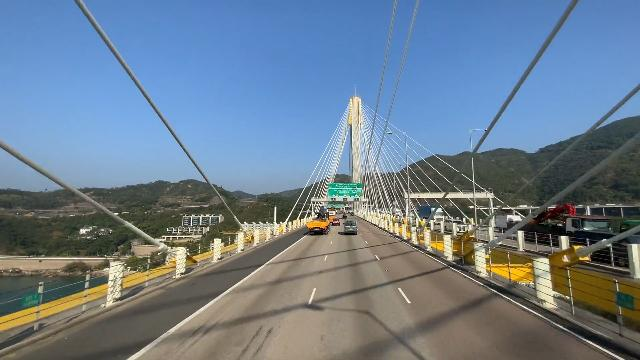truck: (307, 206, 332, 236)
van: (342, 221, 360, 236)
